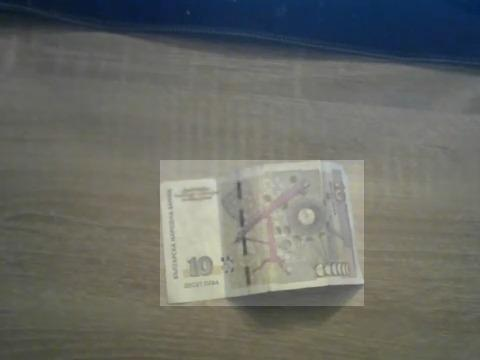10leva: (160, 160, 364, 306)
